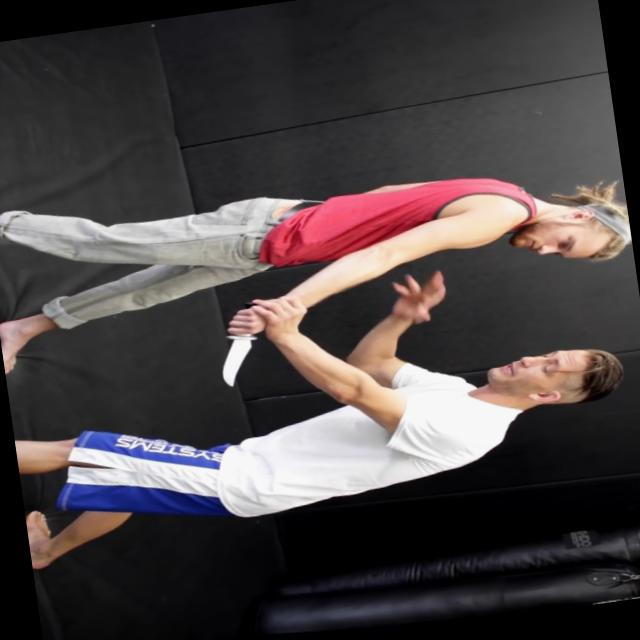knife: (198, 298, 270, 395)
